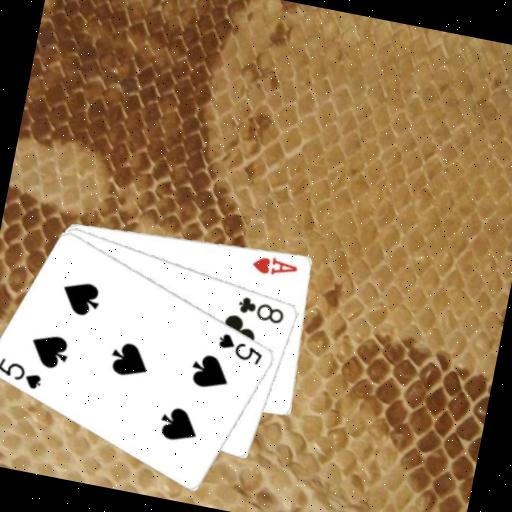5S: (213, 328, 268, 367), (0, 353, 47, 392)
8C: (234, 292, 289, 327)
AH: (249, 250, 301, 282)
